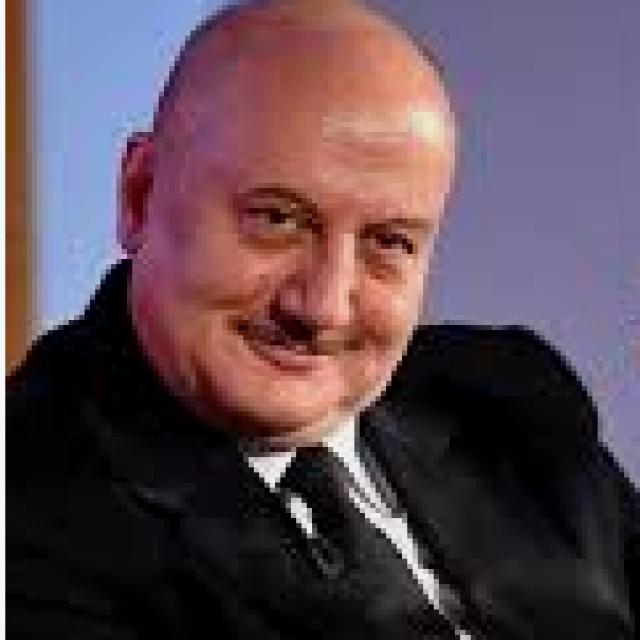normal_face: (118, 36, 466, 448)
